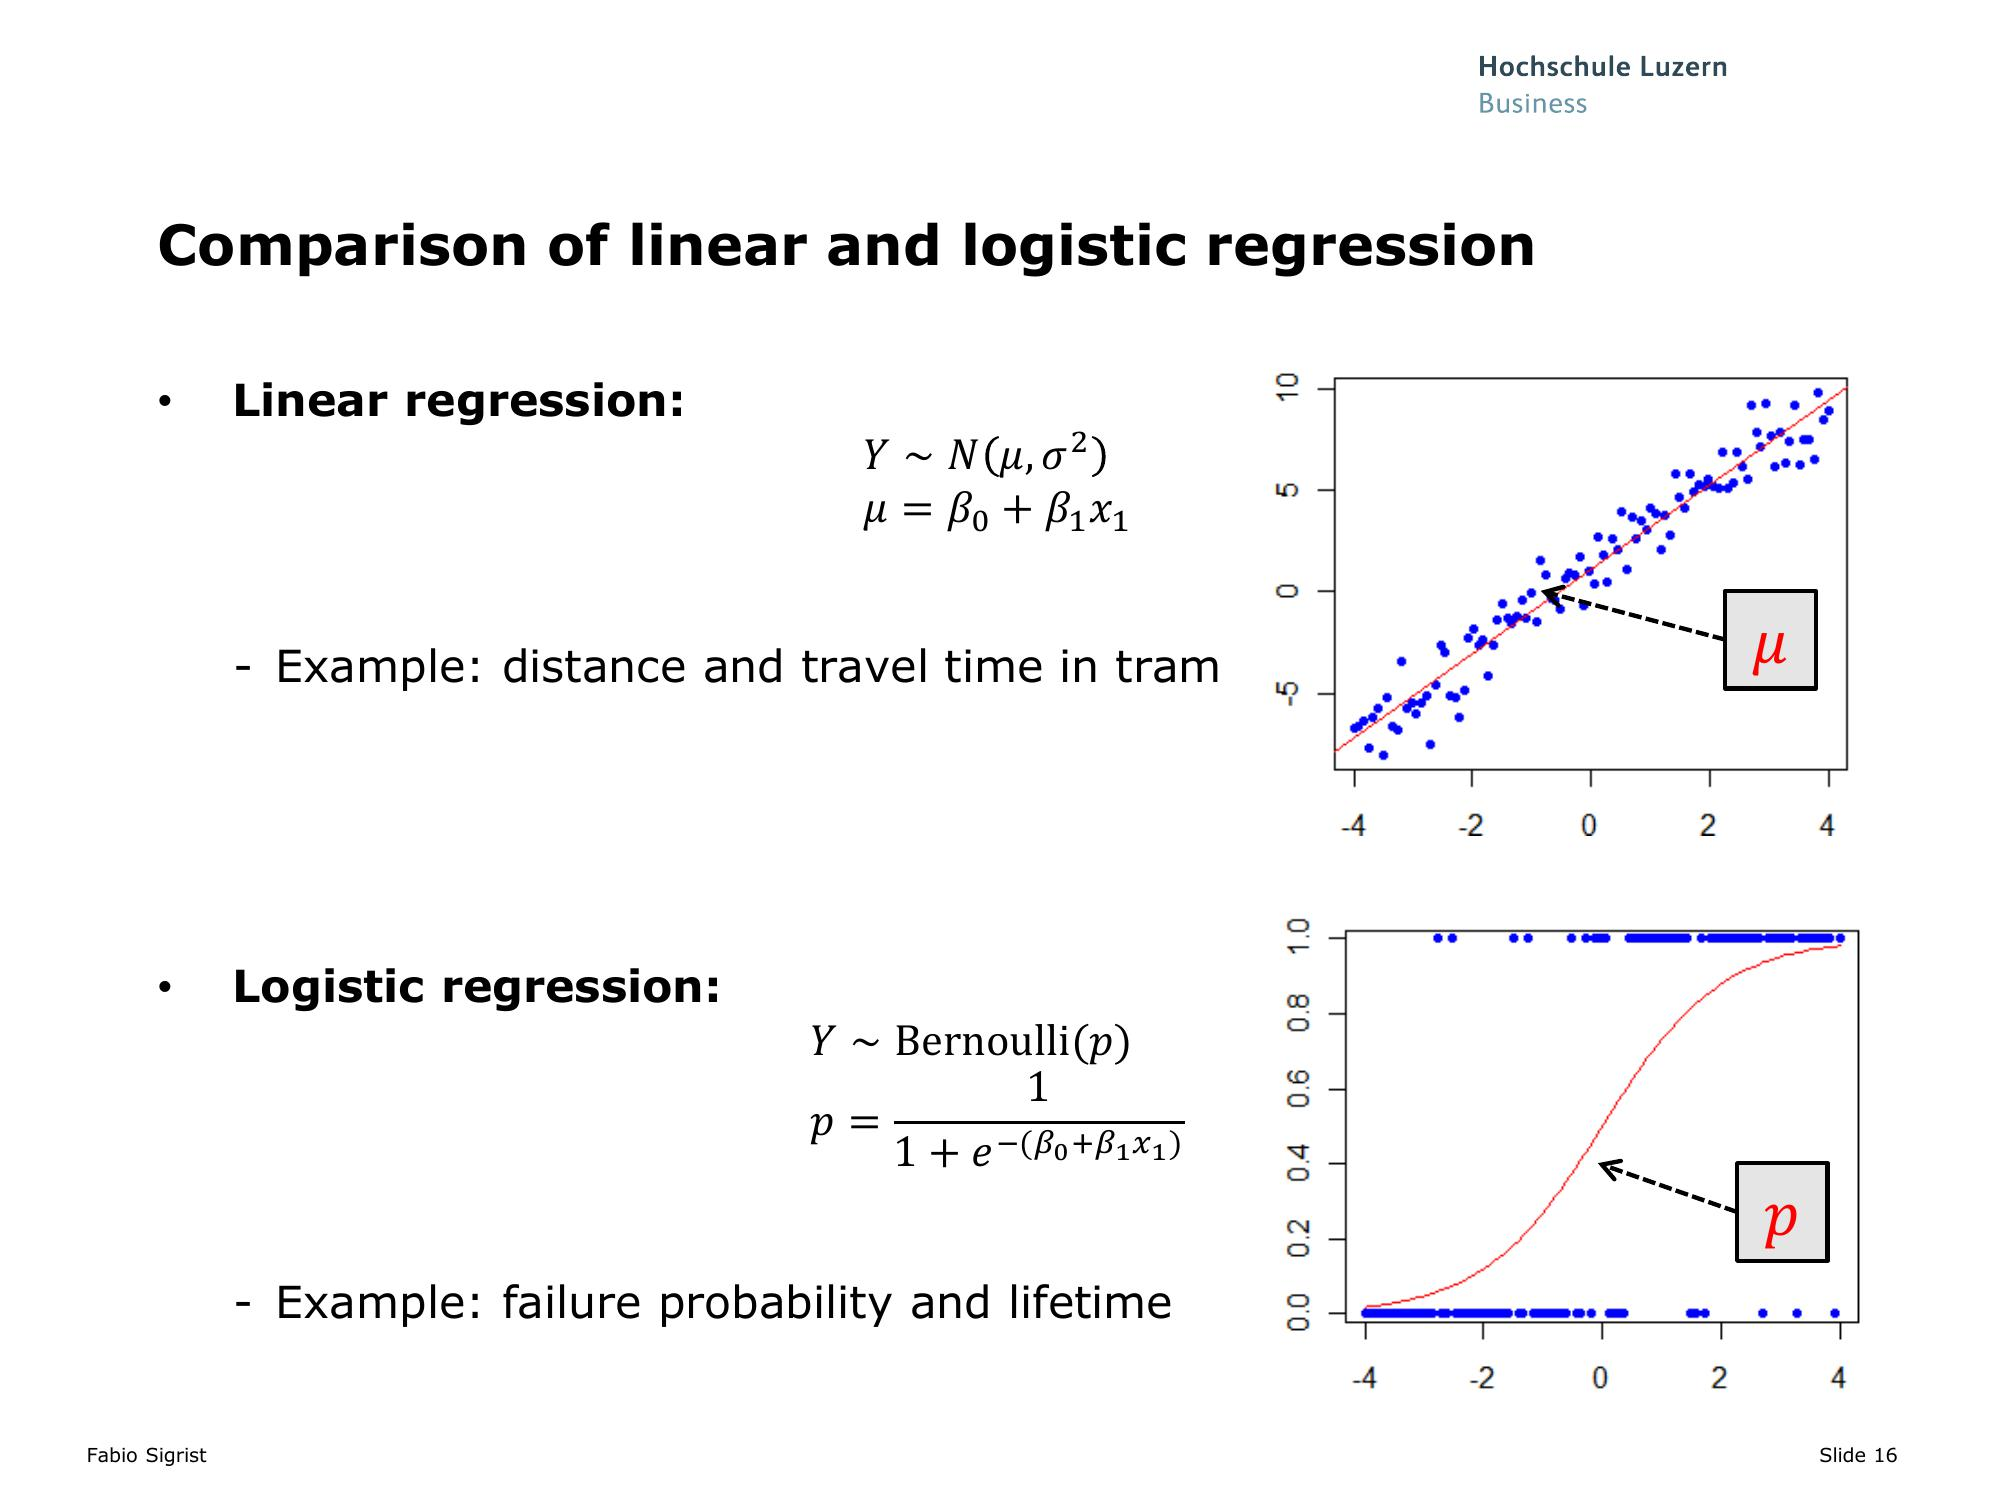Title: (120, 183, 1565, 296)
